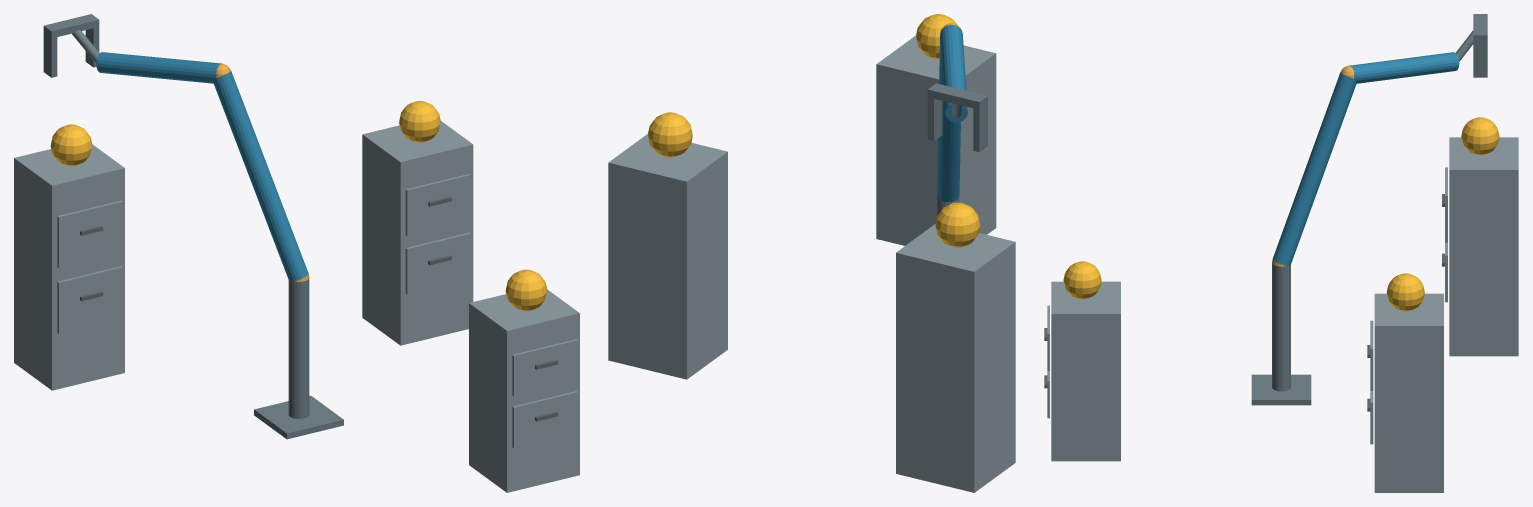
3 renders of one model, left to right at view 1: azimuth 30°, elevation 25°; view 2: azimuth 150°, elevation 25°; view 3: azimuth 270°, elevation 25°, orthographic. The views are drawn at different scales.
Visible parts, largest first — view 1: cabinet_3 body, cabinet_2 body, cabinet_1 body, moving link 1, cabinet_3 drawer front, cabinet_3 drawer front.001, cabinet_2 drawer front.001, cabinet_2 drawer front, fixed post, cabinet_1 drawer front.001, cabinet_1 drawer front, moving link 2 (+5 smaller); view 2: cabinet_3 body, cabinet_2 body, cabinet_1 body, moving link 1, moving link 2, released ball_2, ball ball_3, released ball_1, gripper bridge, gripper finger 1, gripper finger -1; view 3: cabinet_3 body, cabinet_2 body, cabinet_1 body, moving link 1, fixed post, moving link 2, pedestal, ball ball_3, released ball_1, released ball_2, gripper finger 1.
Boxes of the visible parts, left/top/right/bottom form: cabinet_3 body: left=14, top=144, right=124, bottom=390; cabinet_2 body: left=362, top=121, right=473, bottom=345; cabinet_1 body: left=469, top=289, right=579, bottom=492; moving link 1: left=213, top=71, right=308, bottom=281; cabinet_3 drawer front: left=57, top=266, right=122, bottom=333; cabinet_3 drawer front.001: left=57, top=200, right=122, bottom=268; cabinet_2 drawer front.001: left=405, top=173, right=471, bottom=236; cabinet_2 drawer front: left=405, top=232, right=471, bottom=294; fixed post: left=288, top=278, right=309, bottom=418; cabinet_1 drawer front.001: left=512, top=339, right=577, bottom=396; cabinet_1 drawer front: left=512, top=391, right=577, bottom=447; moving link 2: left=96, top=52, right=221, bottom=83; cabinet_3 body: left=896, top=224, right=1015, bottom=492; cabinet_2 body: left=608, top=134, right=727, bottom=379; cabinet_1 body: left=876, top=35, right=996, bottom=245; moving link 1: left=937, top=35, right=960, bottom=201; moving link 2: left=940, top=25, right=967, bottom=122; released ball_2: left=648, top=112, right=692, bottom=157; ball ball_3: left=935, top=202, right=980, bottom=247; released ball_1: left=916, top=14, right=957, bottom=59; gripper bridge: left=927, top=83, right=987, bottom=109; gripper finger 1: left=927, top=97, right=942, bottom=140; gripper finger -1: left=973, top=104, right=987, bottom=152; cabinet_3 body: left=1449, top=137, right=1518, bottom=356; cabinet_2 body: left=1374, top=293, right=1443, bottom=492; cabinet_1 body: left=1051, top=281, right=1120, bottom=461; moving link 1: left=1272, top=72, right=1356, bottom=265; fixed post: left=1272, top=263, right=1290, bottom=391; moving link 2: left=1349, top=52, right=1459, bottom=83; pedestal: left=1251, top=374, right=1311, bottom=405; ball ball_3: left=1461, top=117, right=1499, bottom=155; released ball_1: left=1063, top=261, right=1101, bottom=299; released ball_2: left=1386, top=273, right=1424, bottom=311; gripper finger 1: left=1473, top=41, right=1487, bottom=77.
Bounding box in the file's own units: 1.67 × 1.46 × 1.98.
